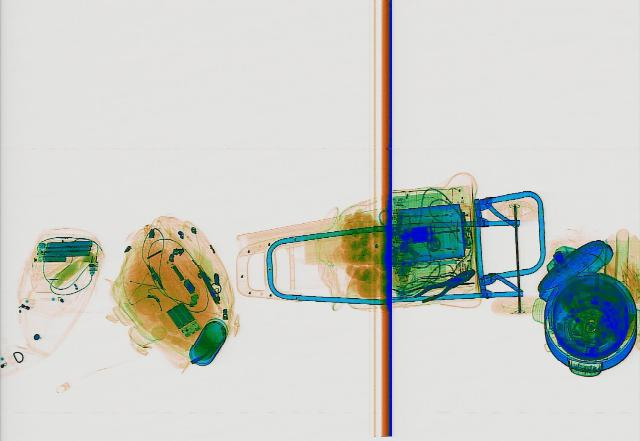Pliers: (408, 264, 482, 304)
